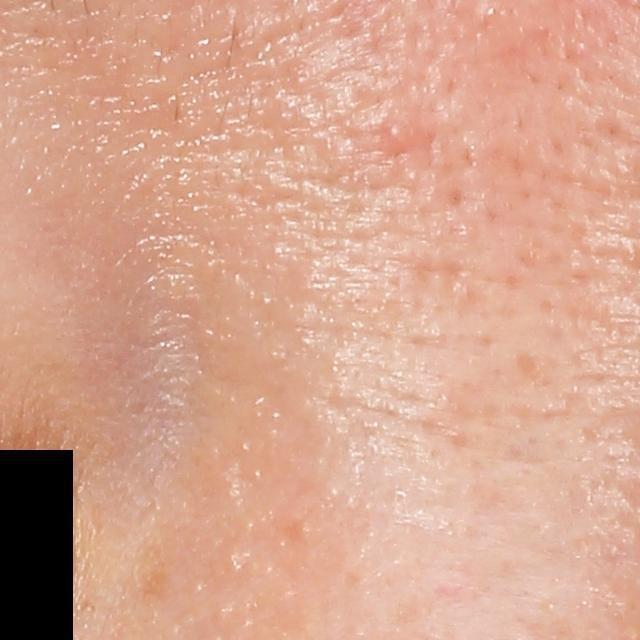melasma: (135, 543, 168, 608)
